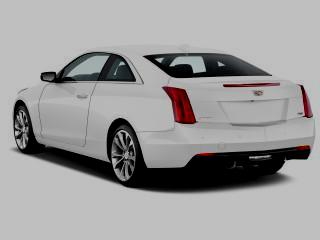cadillac: (250, 87, 268, 99)
